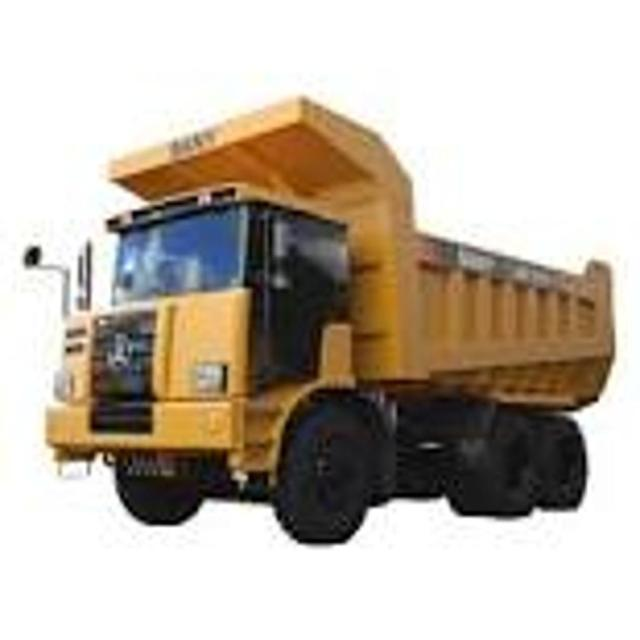dump_truck: (17, 89, 622, 548)
